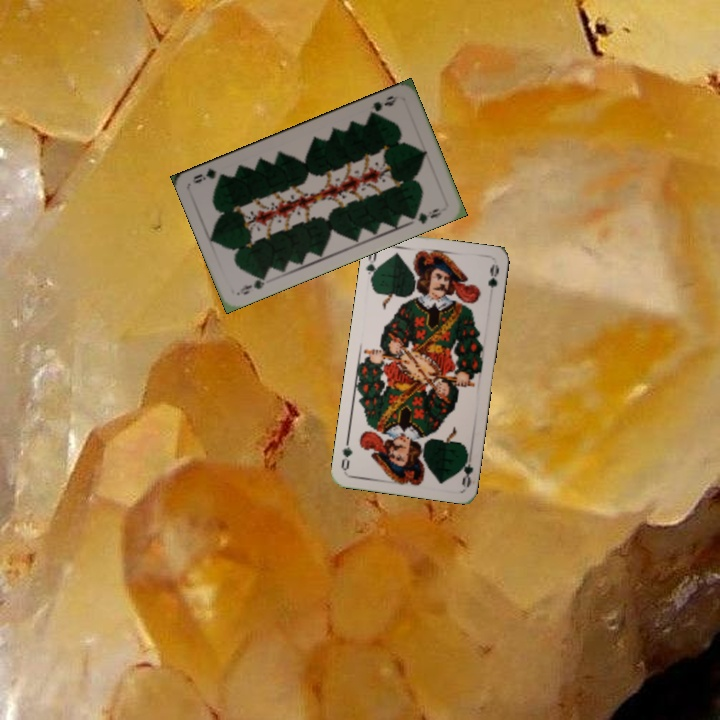G9: (365, 92, 401, 119), (234, 272, 269, 297)
GO: (455, 447, 476, 488), (362, 247, 382, 285)
